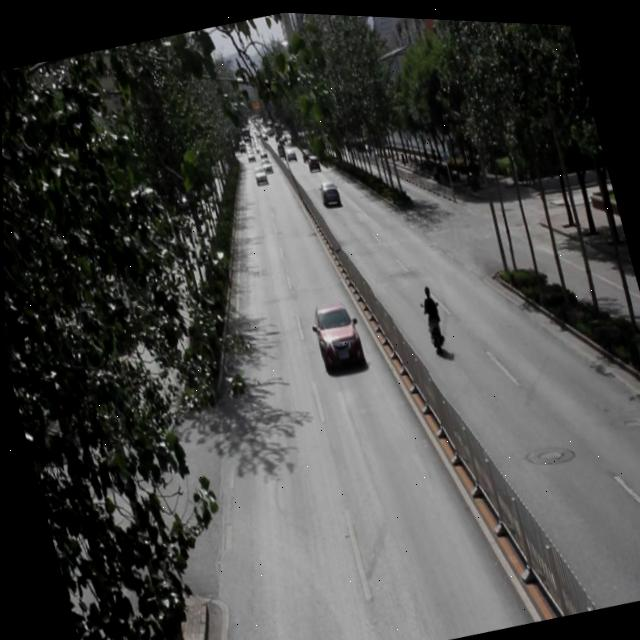car: (305, 292, 365, 371), (315, 174, 341, 206), (305, 150, 321, 170), (252, 161, 266, 183), (298, 141, 313, 159), (258, 153, 272, 170)
